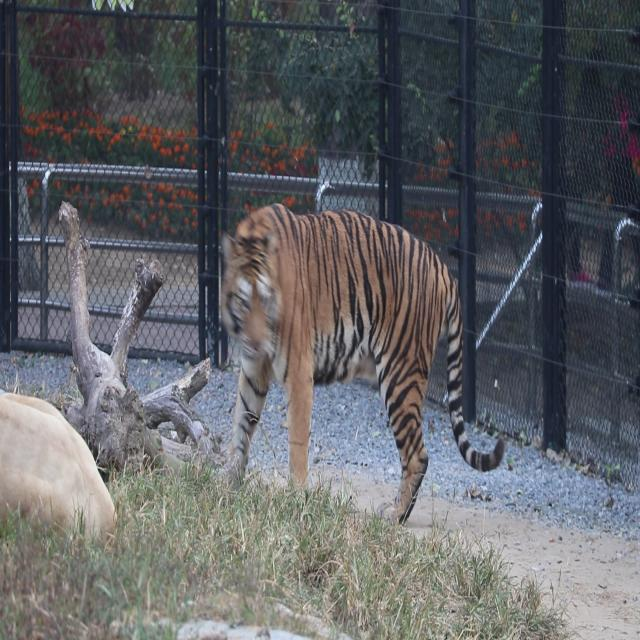Tiger: (211, 159, 528, 575)
